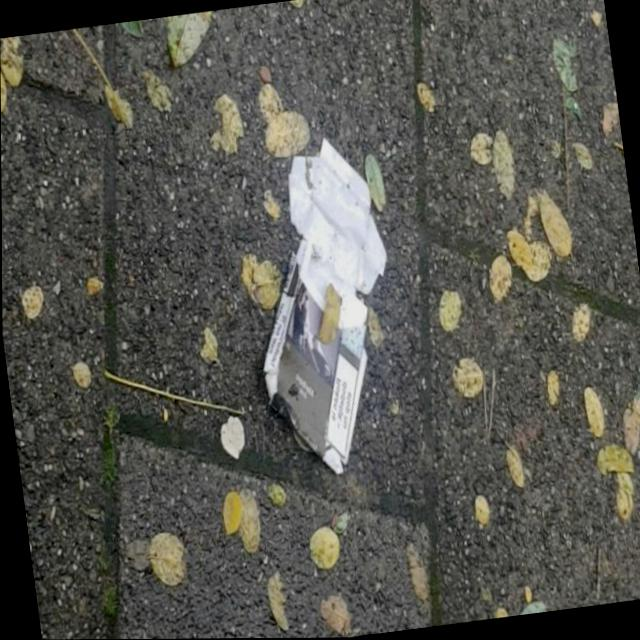Paper: (230, 128, 415, 486)
